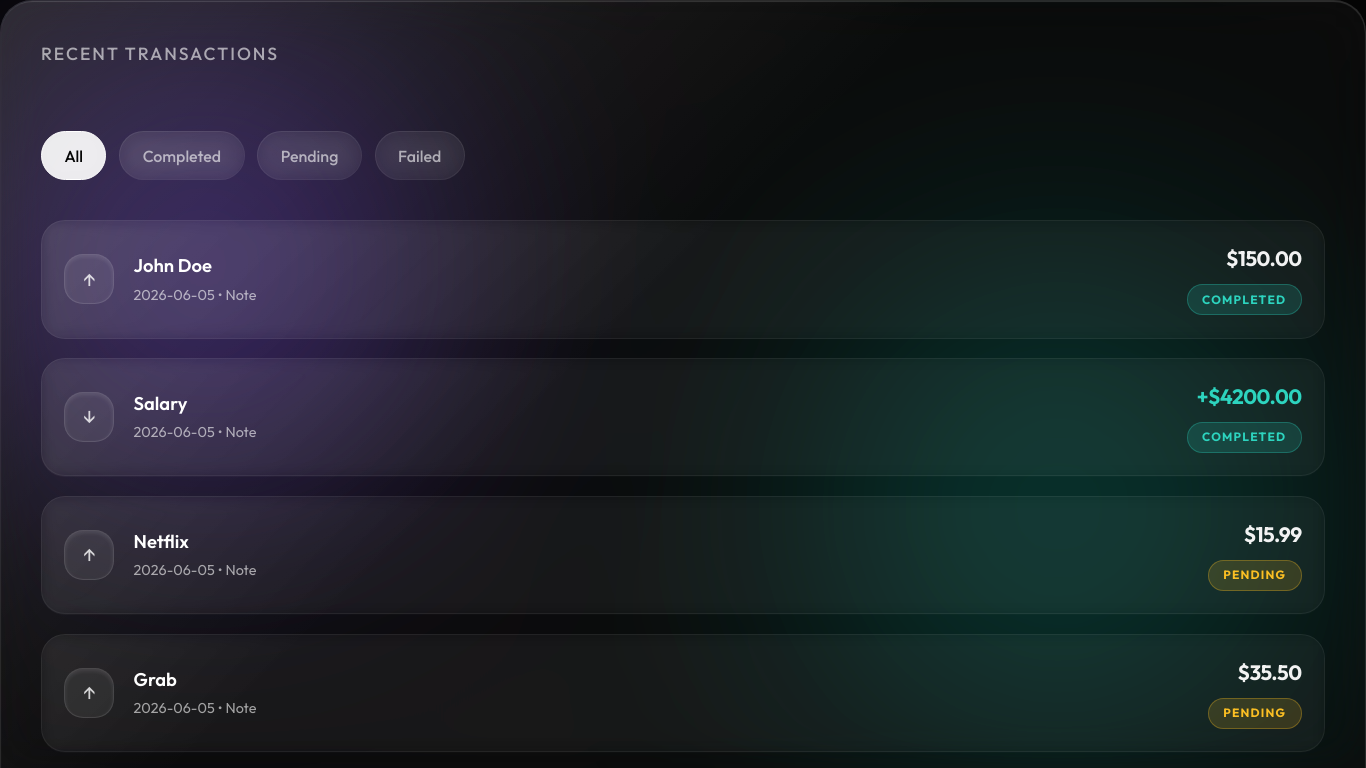
Test: TransactionList filter actions › FILTER-04: clicking Failed shows failed items only
This screenshot has width=1366, height=768.
Click the button "Failed" at (420, 156), box [375, 131, 465, 180]
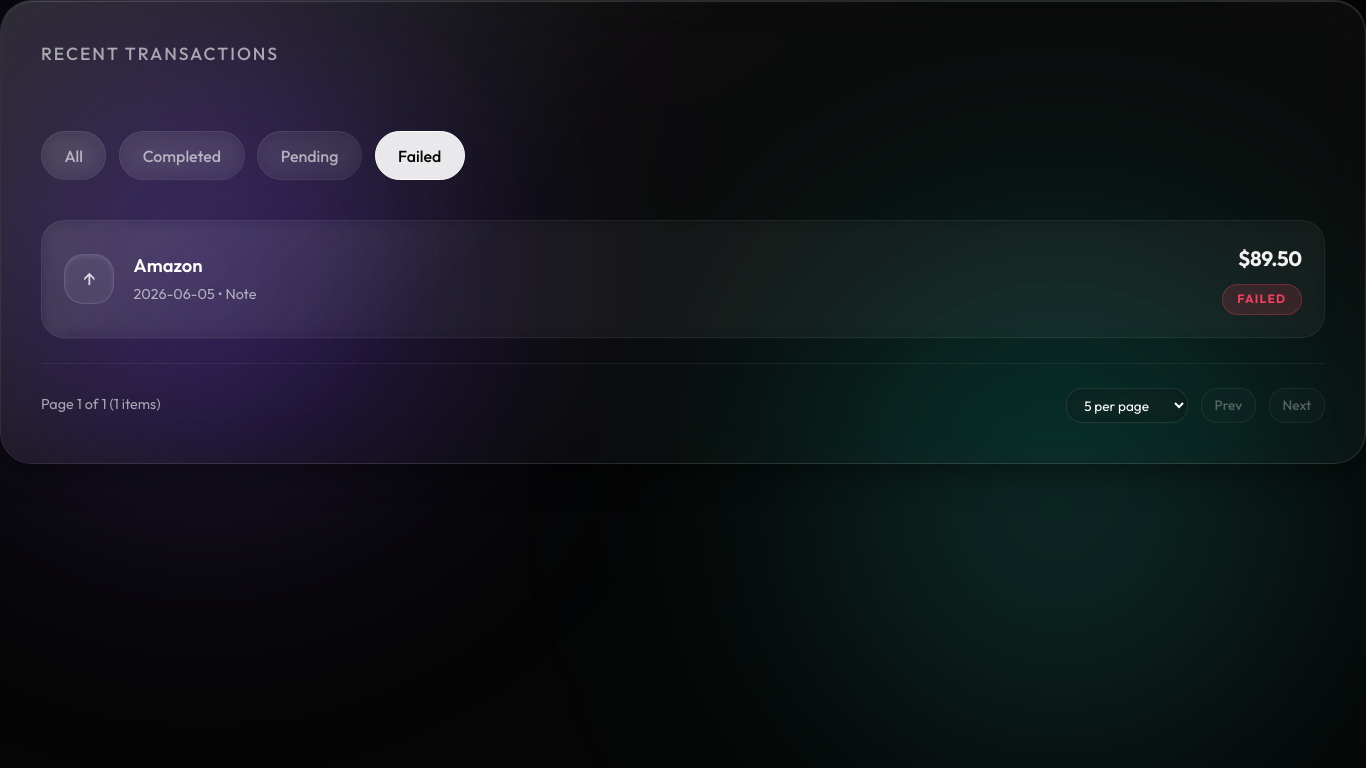
Result: the heading "John Doe" is gone
Result: the heading "Salary" is gone
Result: the heading "Netflix" is gone
